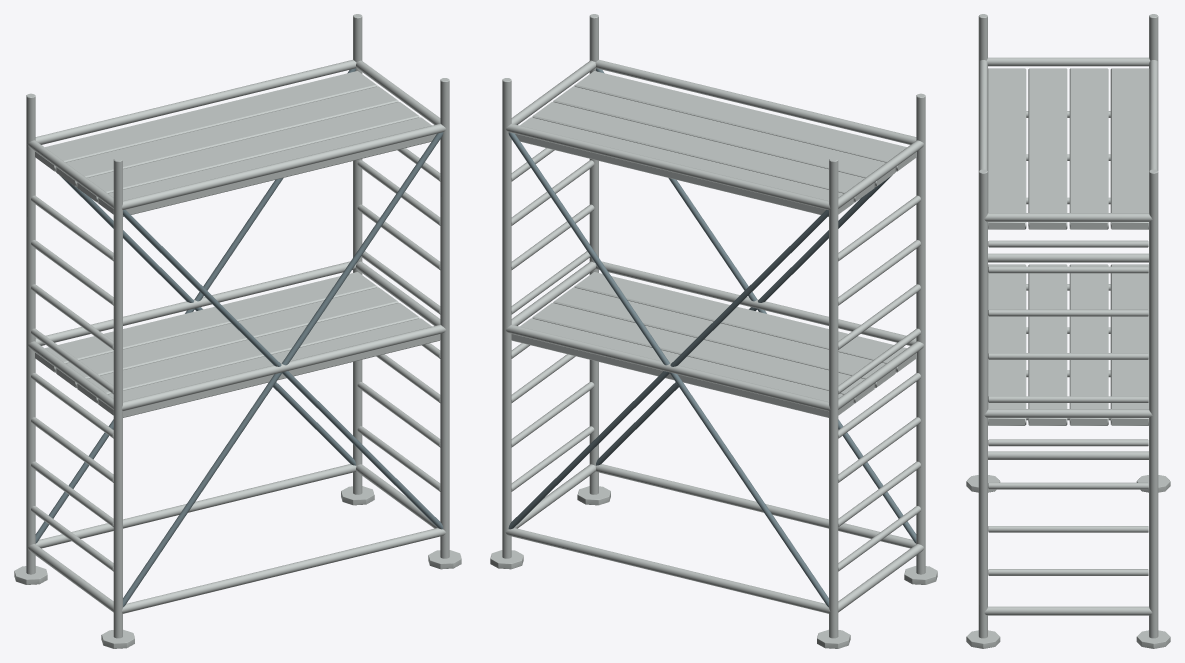
File: scaffolding.glb
3 views of the same model, side by side, from view 1: azimuth 30°, elevation 25°; view 2: azimuth 150°, elevation 25°; view 3: azimuth 270°, elevation 25° (orthographic). The views are drawn at different scales.
Parts seen in each view (by area): view 1: platform0.001, platform1.001, platform2.001, platform2, platform1, platform0, platform3.001, platform3, upright.001, upright.003, upright, diagonal.002 (+29 smaller); view 2: platform3.001, platform2.001, platform1.001, platform1, platform2, platform3, platform0.001, platform0, upright, upright.002, upright.001, diagonal (+29 smaller); view 3: platform1.001, platform2.001, platform0.001, platform3.001, platform1, platform2, platform0, platform3, upright.002, upright.003, cross_rail.001, cross_rail.004 (+19 smaller).
Part boxes in pixels (box(x1,y1,x2,y2)): platform0.001: box(35, 71, 377, 171); platform1.001: box(56, 86, 398, 187); platform2.001: box(77, 102, 419, 202); platform2: box(77, 303, 419, 403); platform1: box(56, 287, 398, 388); platform0: box(35, 272, 377, 372); platform3.001: box(98, 117, 436, 216); platform3: box(98, 318, 440, 417); upright.001: box(113, 157, 122, 638); upright.003: box(440, 78, 449, 558); upright: box(26, 93, 35, 574); diagonal.002: box(123, 132, 443, 607); platform3.001: box(574, 71, 916, 171); platform2.001: box(553, 86, 895, 187); platform1.001: box(532, 102, 874, 202); platform1: box(532, 303, 874, 403); platform2: box(553, 287, 895, 388); platform3: box(574, 272, 916, 372); platform0.001: box(515, 117, 853, 216); platform0: box(511, 318, 853, 417); upright: box(829, 157, 838, 638); upright.002: box(502, 78, 511, 558); upright.001: box(916, 93, 925, 574); diagonal: box(508, 132, 828, 607); platform1.001: box(1069, 68, 1108, 229); platform2.001: box(1028, 68, 1067, 229); platform0.001: box(1110, 68, 1149, 229); platform3.001: box(987, 68, 1026, 229); platform1: box(1069, 264, 1108, 425); platform2: box(1028, 264, 1067, 425); platform0: box(1110, 264, 1148, 425); platform3: box(988, 264, 1026, 425); upright.002: box(1149, 169, 1158, 638); upright.003: box(978, 169, 987, 638); cross_rail.001: box(984, 606, 1152, 615); cross_rail.004: box(986, 57, 1150, 66).
Bounding box in the file's own units: 2.36 × 3.05 × 1.2.
